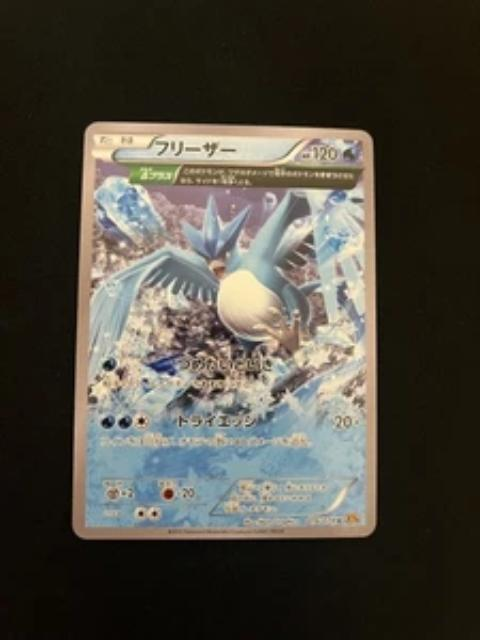Card: (69, 118, 382, 545)
Name: (148, 137, 244, 162)
